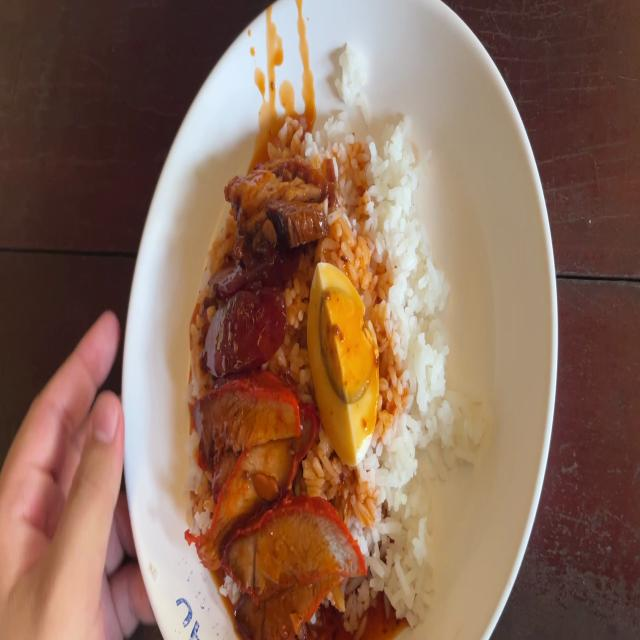01boiled_egg: (311, 262, 375, 458)
01chainese_sausage: (203, 249, 288, 373)
01crispy_pork: (222, 154, 332, 244)
01red_pork: (190, 373, 316, 622), (299, 496, 363, 616)
01red_pork_and_crispy_pork: (195, 116, 453, 640)
01rice: (374, 274, 454, 611), (331, 119, 441, 269)
